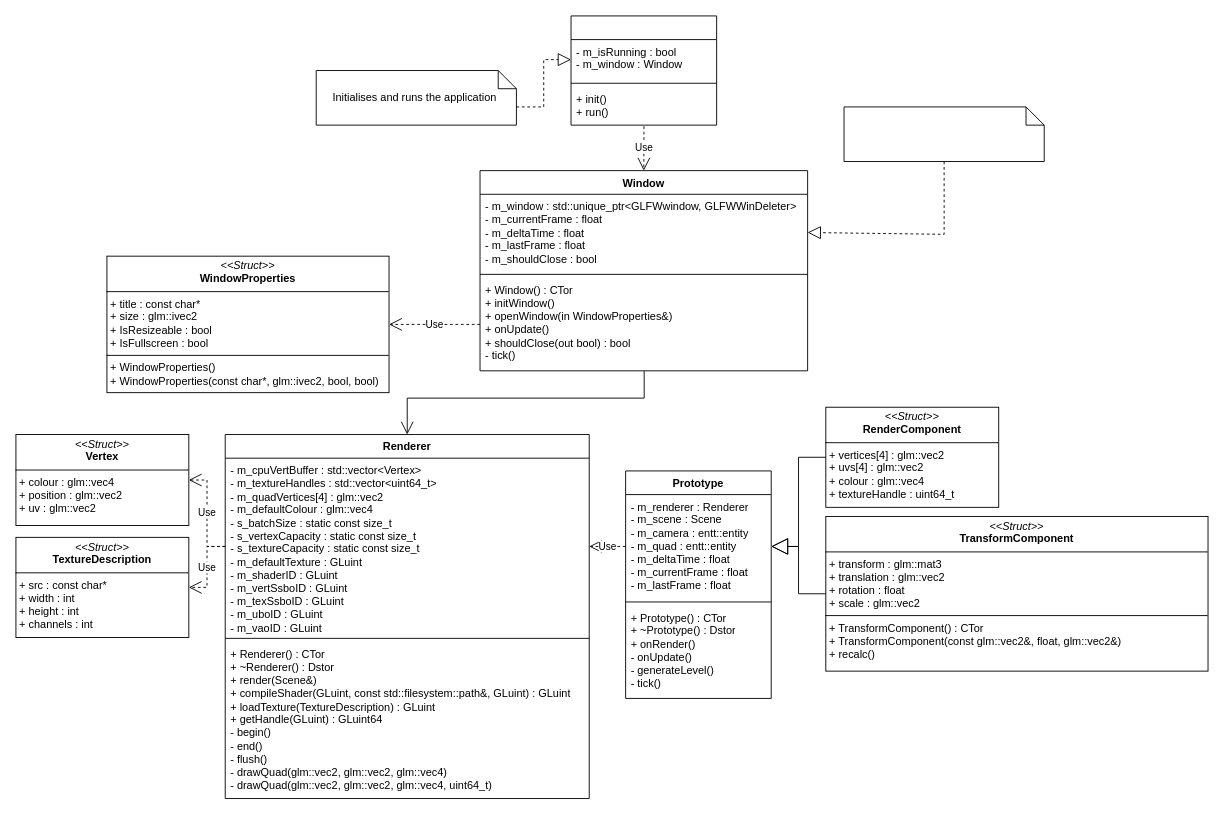
This 1224x817 diagram has some shape labels left out. The shapes that lost their labels are listed below. From the top down, each one's box as (x1, y1, x2, y2) in pixels, then its label:
(570, 15, 717, 125): Application
(843, 106, 1044, 162): The main window of the renderer
